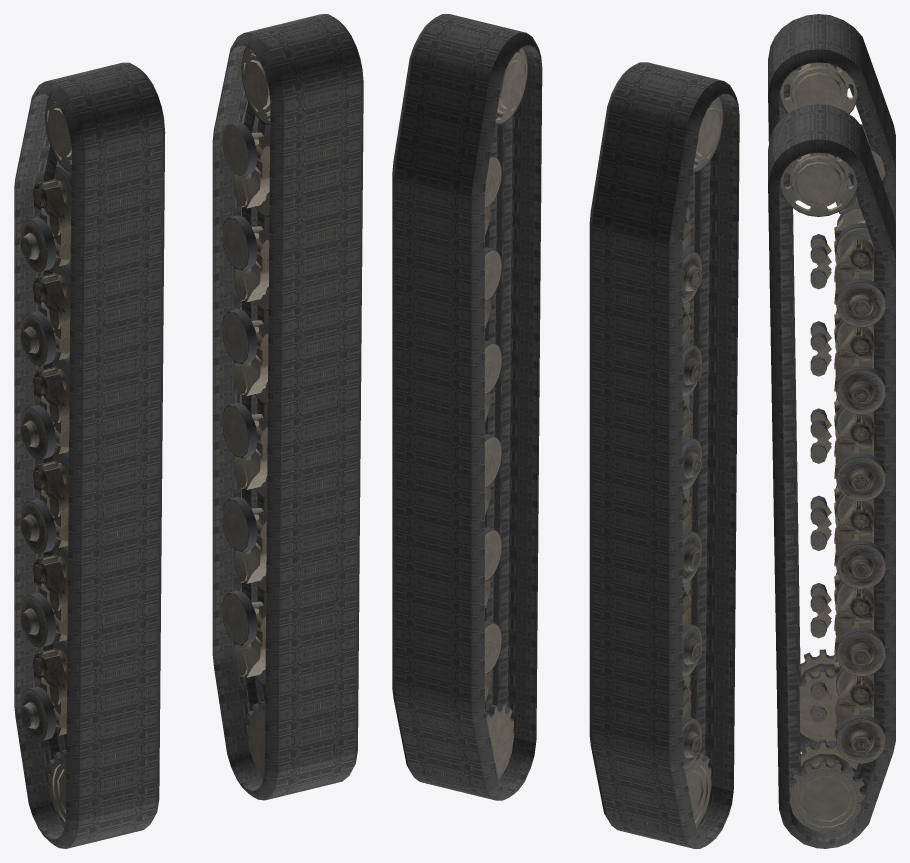
File: Chassis.glb
3 renders of one model, left to right at view 1: azimuth 30°, elevation 25°; view 2: azimuth 150°, elevation 25°; view 3: azimuth 270°, elevation 25°, orthographic. The views are drawn at different scales.
Parts seen in each view (by area): view 1: set_0_group_0, set_1_group_0, set_3_group_0, set_5_group_0, set_4_group_0, set_2_group_0; view 2: set_0_group_0, set_1_group_0, set_3_group_0, set_5_group_0; view 3: set_5_group_0, set_0_group_0, set_1_group_0, set_3_group_0, set_4_group_0.
Boxes of the visible parts, x1,y1,x2,y2 form: set_0_group_0: [212, 14, 363, 800]; set_1_group_0: [14, 62, 165, 848]; set_3_group_0: [20, 96, 71, 826]; set_5_group_0: [222, 47, 270, 777]; set_4_group_0: [234, 414, 267, 677]; set_2_group_0: [33, 579, 66, 708]; set_0_group_0: [392, 14, 542, 800]; set_1_group_0: [589, 62, 739, 848]; set_3_group_0: [682, 96, 723, 827]; set_5_group_0: [485, 47, 527, 779]; set_5_group_0: [779, 152, 885, 831]; set_0_group_0: [768, 104, 895, 848]; set_1_group_0: [768, 14, 895, 752]; set_3_group_0: [779, 62, 885, 741]; set_4_group_0: [835, 501, 874, 717].
Bounding box in the file's own units: 3.5 × 8.65 × 1.41.
6 materials, 6 textured.
